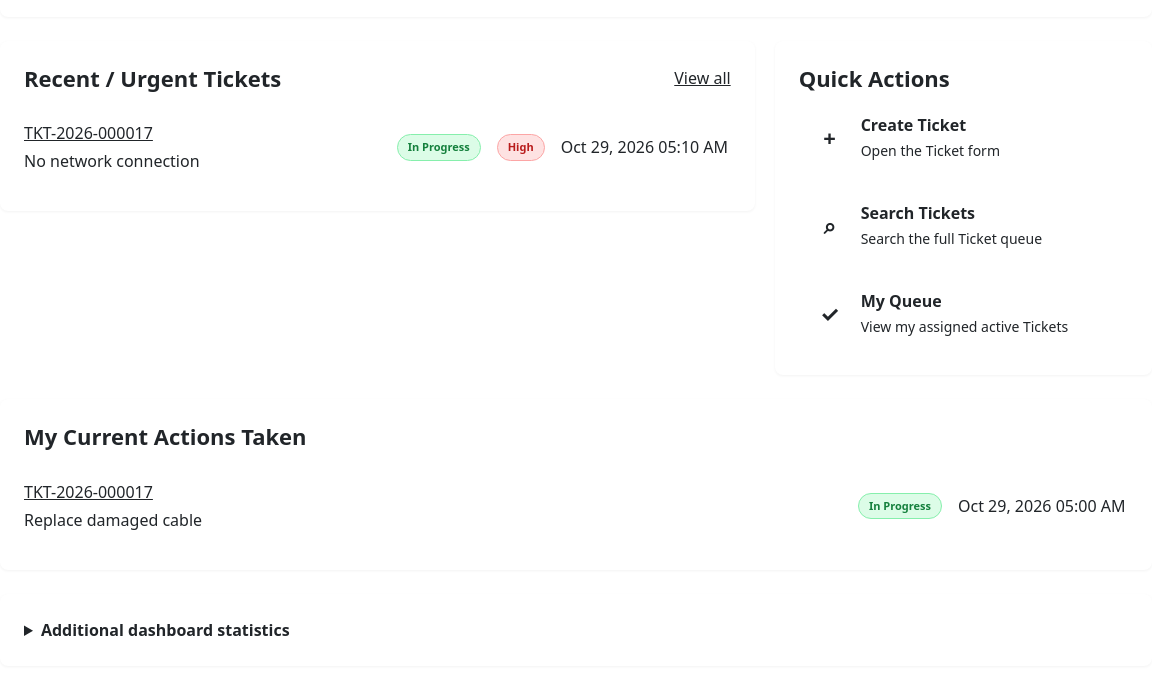
Test: Feature 20 staff dashboard UI › UI-02: expands secondary statistics with the native keyboard-operable disclosure
The width and height of the screenshot is (1152, 698).
(page scrolled)
Step 1. Click the heading "Additional dashboard statistics" → {"x": 165, "y": 630}, box [41, 619, 290, 641]
(page scrolled)
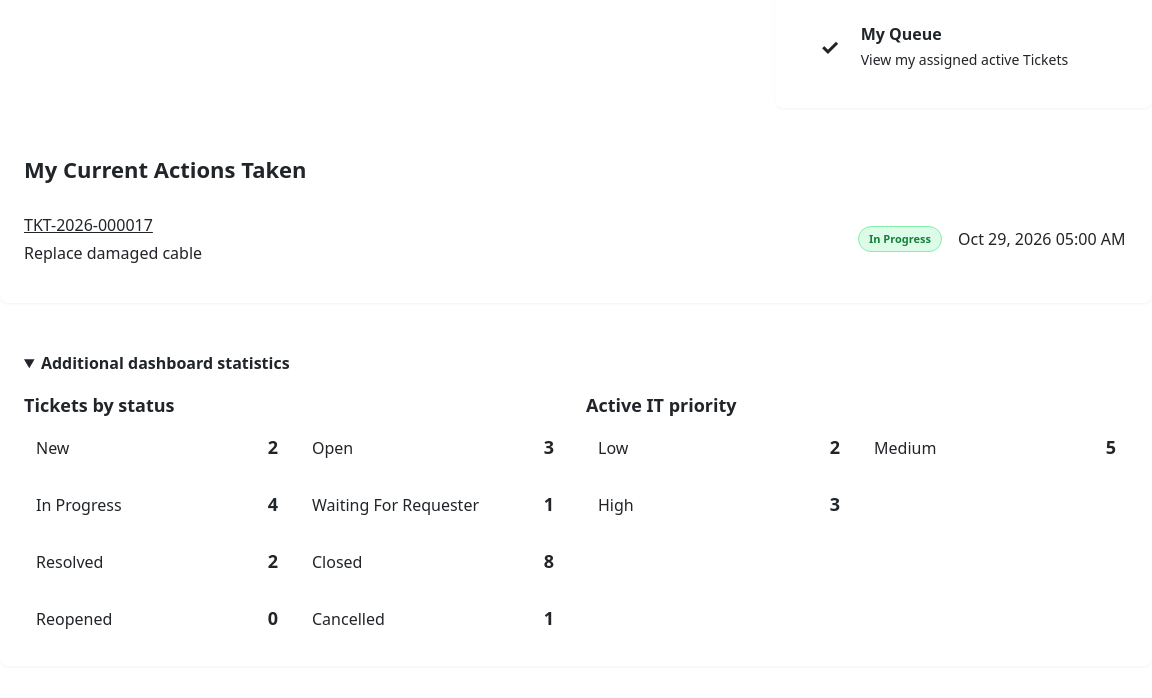
Now the text "Additional dashboard statistics" has attribute open, box [0, 327, 1151, 666]
